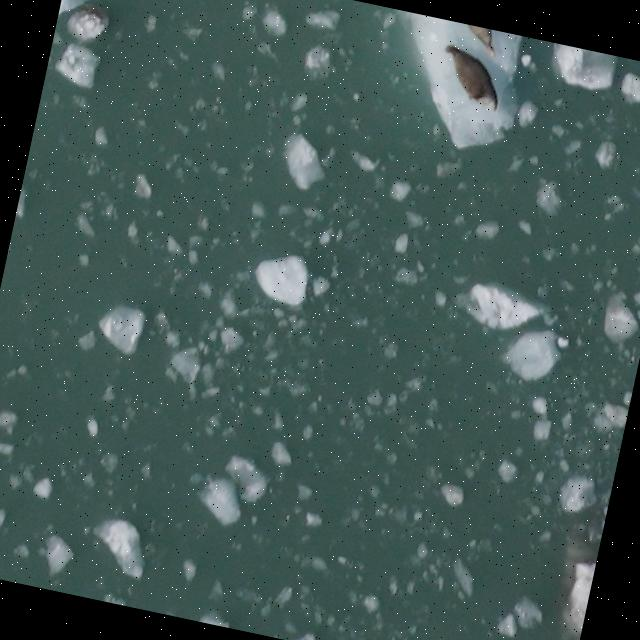seal: (428, 37, 511, 115)
